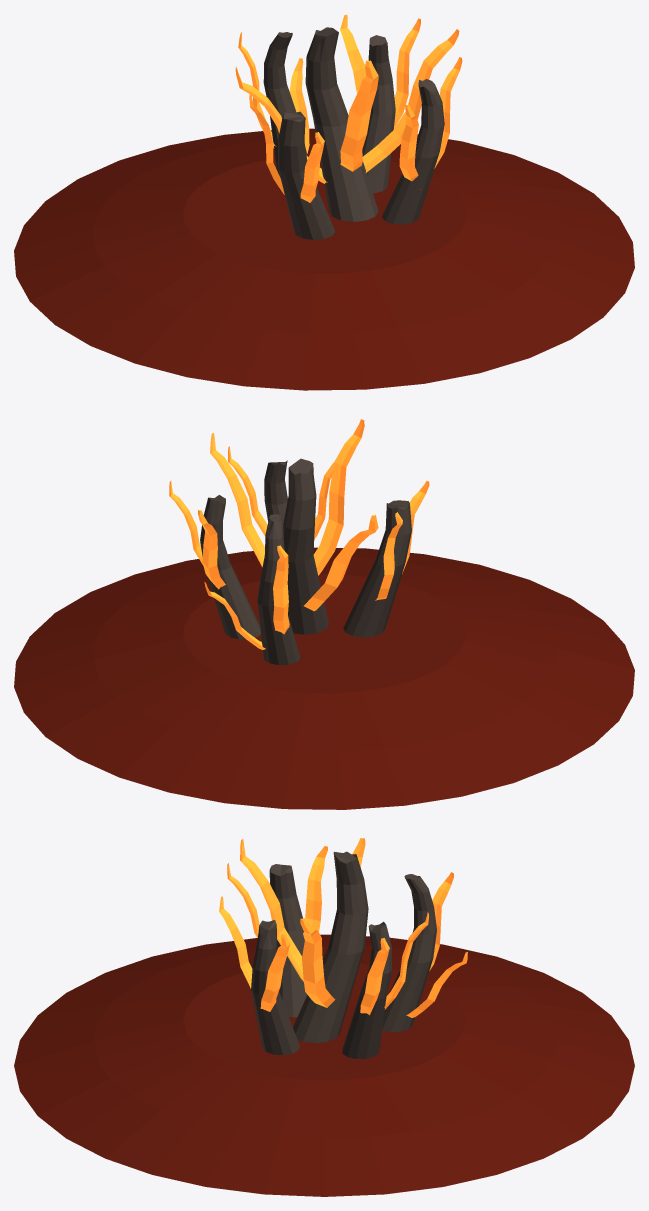
The model's file is Cinderwheat_Harvested_Merged.fbx.
The picture shows the model from 3 angles, top to bottom: view 1: azimuth 30°, elevation 25°; view 2: azimuth 150°, elevation 25°; view 3: azimuth 270°, elevation 25°; orthographic projection.
Parts seen in each view (by area): view 1: 01_Soil; view 2: 01_Soil; view 3: 01_Soil.
Boxes of the visible parts, <box> form: 01_Soil: <box>14,14,634,390</box>; 01_Soil: <box>14,419,634,809</box>; 01_Soil: <box>14,838,634,1196</box>.
Bounding box in the file's own units: 200 × 80.93 × 200.
